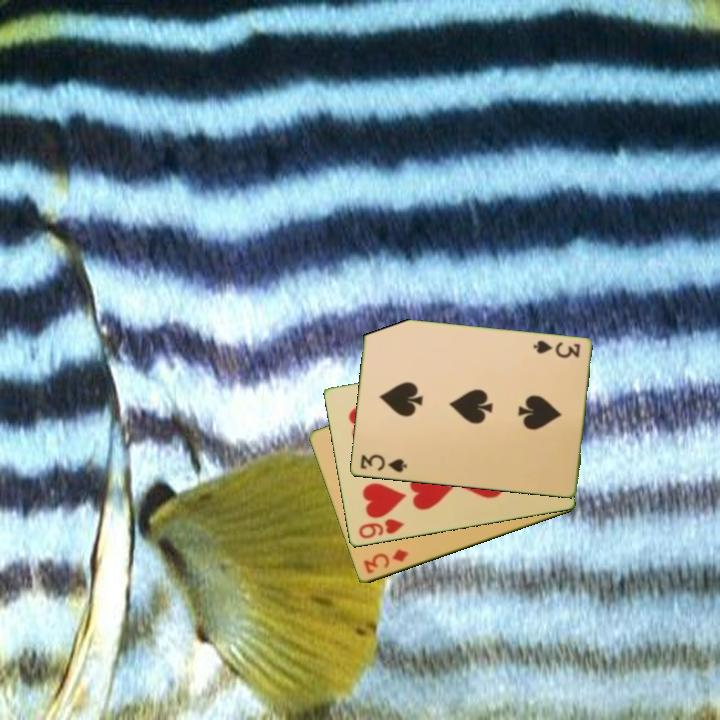3d: (360, 546, 411, 577)
3s: (356, 451, 410, 475), (529, 337, 583, 361)
9h: (355, 515, 407, 542)
